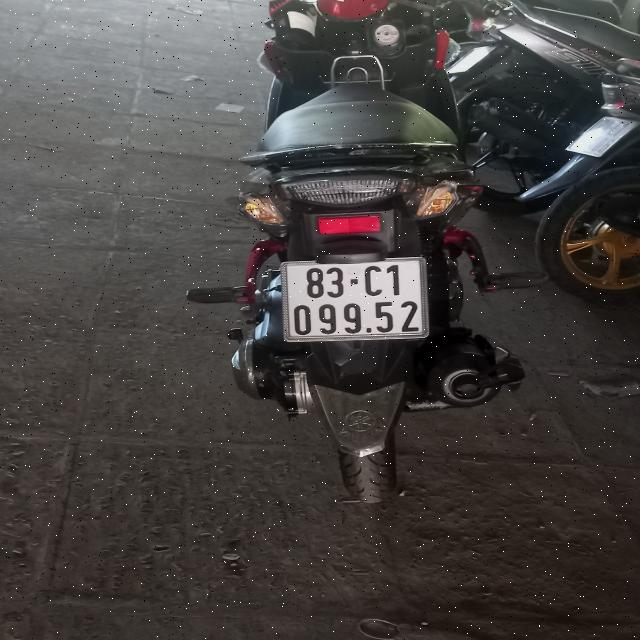0: (292, 305, 310, 335)
1: (387, 264, 399, 296)
2: (401, 301, 418, 331)
3: (326, 267, 344, 298)
5: (375, 302, 392, 332)
8: (306, 268, 324, 298)
9: (319, 304, 337, 335), (344, 304, 361, 335)
C: (364, 265, 383, 296)
